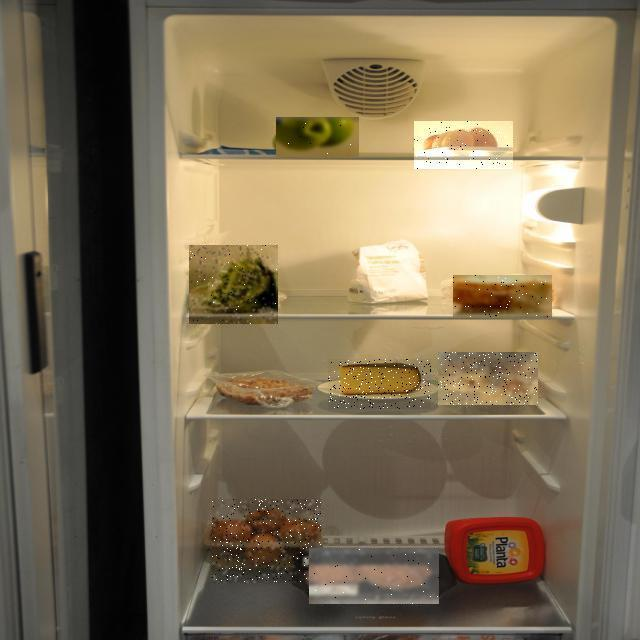Apple: (276, 117, 359, 157)
Beans: (189, 245, 278, 324)
Bread: (453, 275, 552, 318)
Cheese: (328, 359, 431, 409)
Eggs: (414, 121, 513, 169)
Meat: (309, 548, 439, 604)
Mushroom: (438, 352, 538, 405)
Onion: (212, 499, 321, 583)
